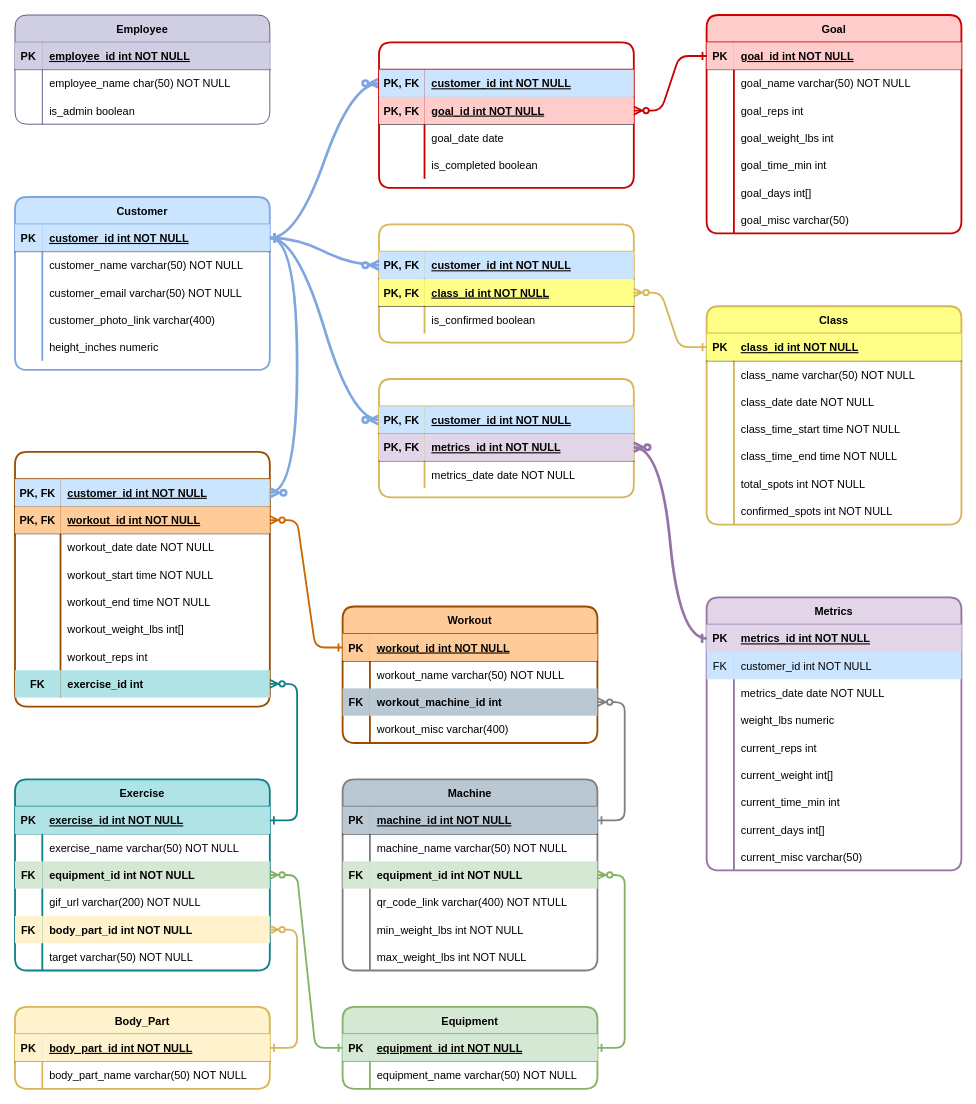
Some shapes in this 976 by 1104 pixel diagram are drawn without their labels. Each missing label, with the box of its shape:
Customer_Class: (378, 223, 634, 343)
Customer_Goal: (378, 41, 634, 188)
Customer_Metrics: (378, 378, 634, 498)
Customer_Workout: (14, 450, 270, 707)
